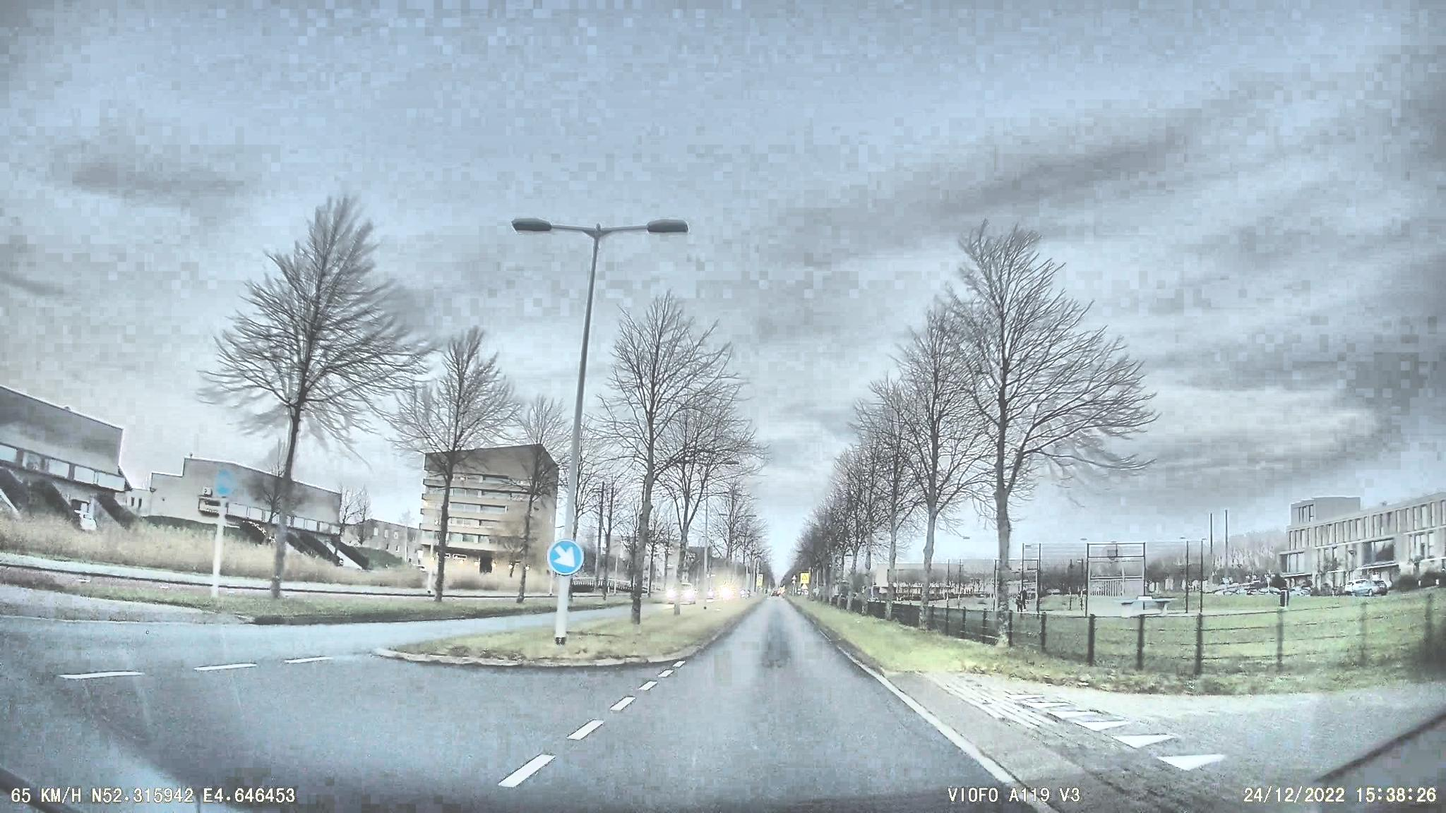Roads: (45, 601, 1068, 812)
